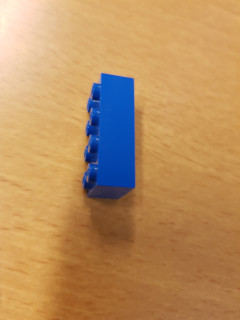2x4 blue: (81, 72, 137, 200)
